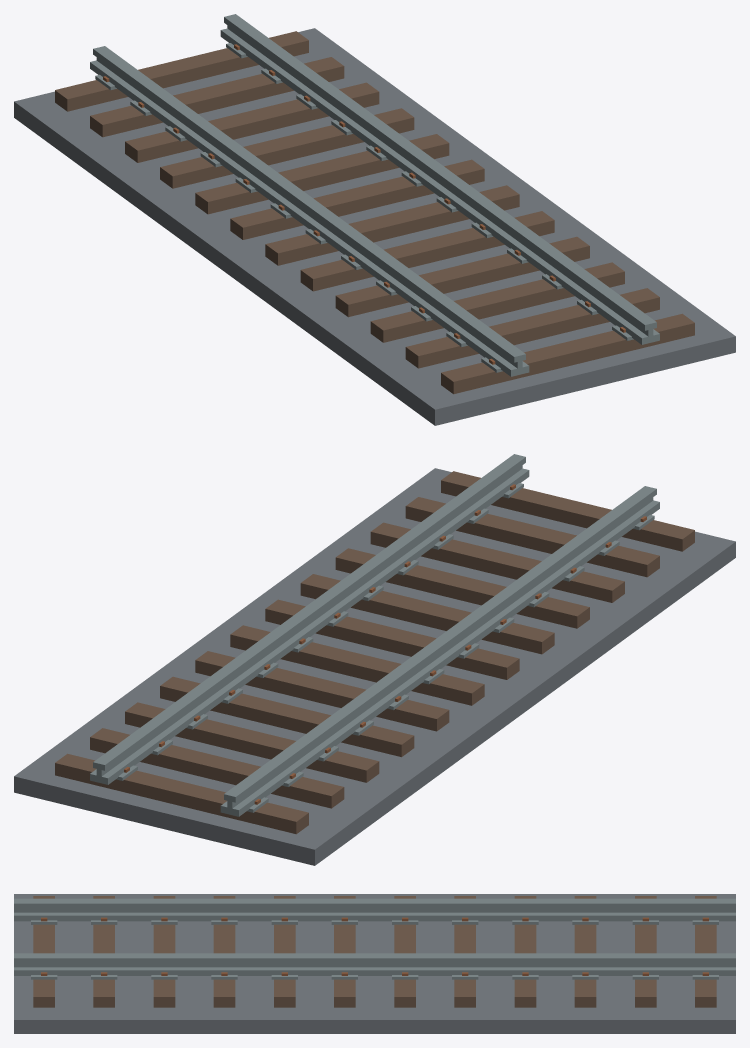
Rendered from DeadRail_Track_8m.fbx.
The picture shows the model from 3 angles, top to bottom: view 1: azimuth 30°, elevation 25°; view 2: azimuth 150°, elevation 25°; view 3: azimuth 270°, elevation 25°; orthographic projection. The views are drawn at different scales.
Parts seen in each view (by area): view 1: TrackSegment_8m_Mesh; view 2: TrackSegment_8m_Mesh; view 3: TrackSegment_8m_Mesh.
Part boxes in pixels (bbox=[...]): TrackSegment_8m_Mesh: bbox=[14, 14, 735, 425]; TrackSegment_8m_Mesh: bbox=[14, 454, 735, 865]; TrackSegment_8m_Mesh: bbox=[14, 894, 735, 1033].
Size of the model in its own units: 3.3 by 0.52 by 8.
